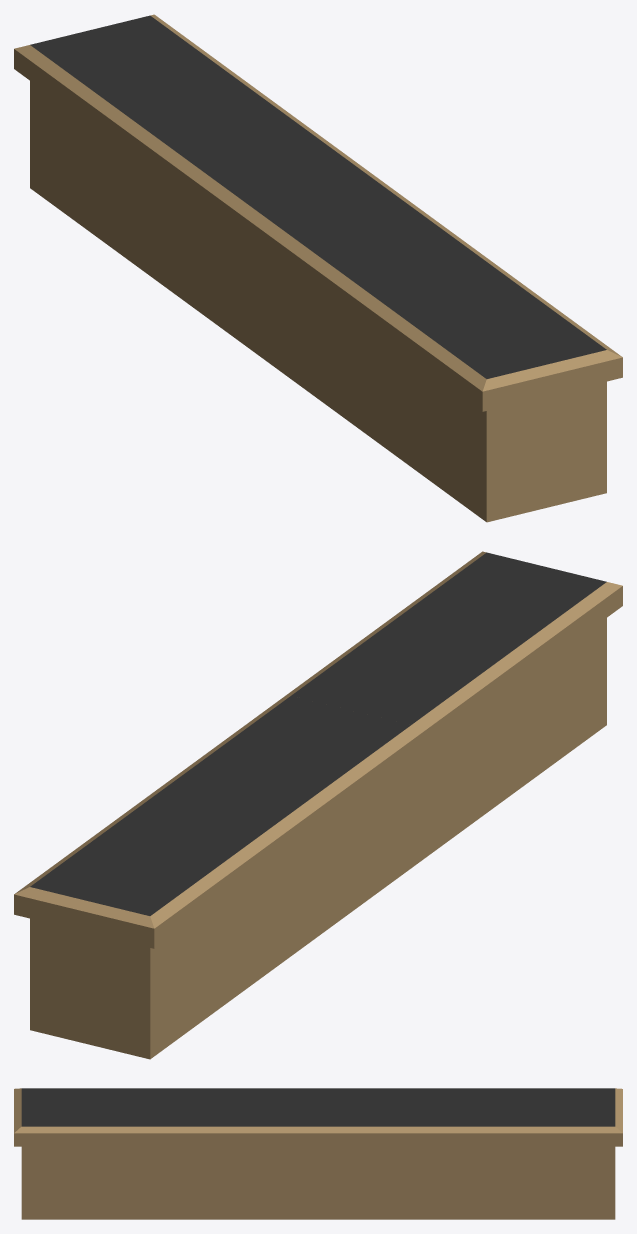
File: Conveyor.fbx
3 views of the same model, one above another, from view 1: azimuth 30°, elevation 25°; view 2: azimuth 150°, elevation 25°; view 3: azimuth 270°, elevation 25° (orthographic). The views are drawn at different scales.
Parts seen in each view (by area): view 1: Cube.001; view 2: Cube.001; view 3: Cube.001.
Part boxes in pixels (x1,y1,x2,y2): Cube.001: (14,14,622,522); Cube.001: (14,551,622,1059); Cube.001: (14,1088,622,1219).
Bounding box in the file's own units: 234 × 228 × 1349.
